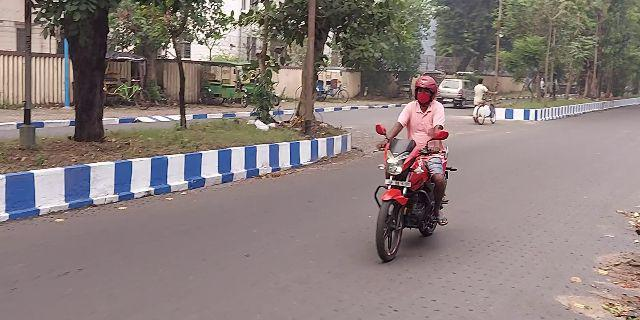Car: (436, 75, 466, 105)
Motorbike: (371, 73, 449, 263)
